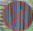No Stopping: (0, 0, 32, 29)
